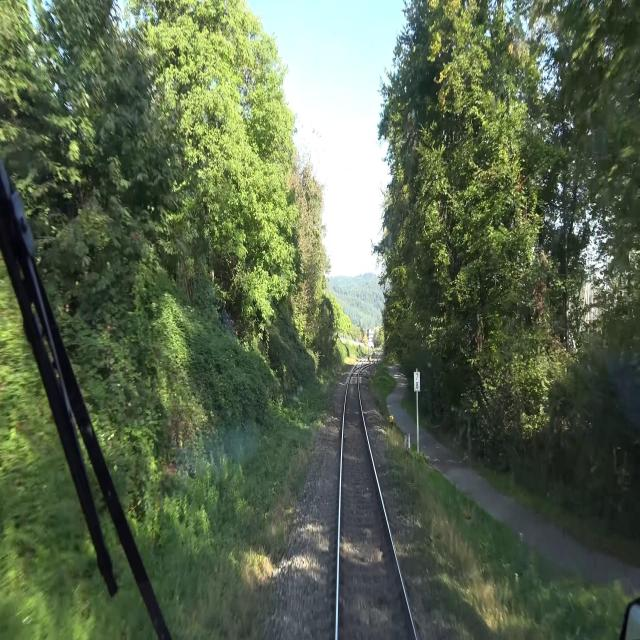rail-track: (340, 372, 414, 639)
